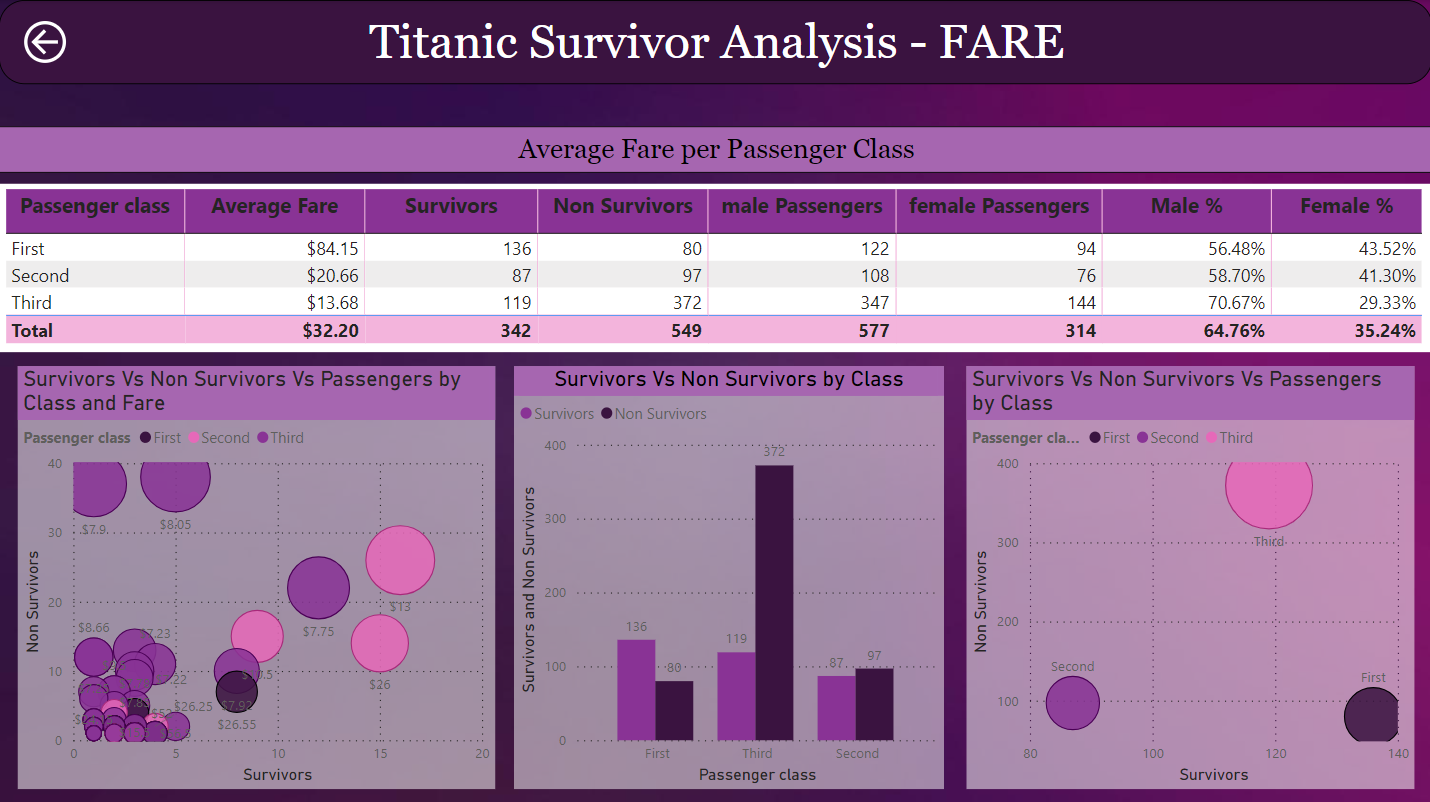

Layout of this report page (visuals, bound fields, positions):
{"tool":"powerbi","page":{"name":"Page 5","canvas":[1280,720],"ordinal":4},"visuals":[{"type":"textbox","box":[0,0,1280,75],"z":0},{"type":"actionButton","box":[16.2,12.5,48.8,50],"z":1},{"type":"tableEx","fields":{"Values":["train.Passenger class","train.Average Fare","train.Survivors","train.Non Survivors","train.male Passengers","train.female Passengers","train.Male %","train.Female %"]},"box":[0,163.8,1280,150],"z":2},{"type":"textbox","box":[0,112.5,1280,41.2],"z":3},{"type":"scatterChart","title":"Survivors Vs Non Survivors Vs Passengers by Class and Fare","fields":{"Y":["train.Non Survivors"],"X":["train.Survivors"],"Size":["train.Total Passengers"],"Series":["train.Passenger class"],"Category":["train.Fare"]},"box":[16.2,327.5,426.2,377.5],"z":4},{"type":"clusteredColumnChart","title":"Survivors Vs Non Survivors by Class","fields":{"Category":["train.Passenger class"],"Y":["train.Survivors","train.Non Survivors"]},"box":[460,327.5,383.8,377.5],"z":5},{"type":"scatterChart","title":"Survivors Vs Non Survivors Vs Passengers by Class","fields":{"Y":["train.Non Survivors"],"X":["train.Survivors"],"Series":["train.Passenger class"],"Size":["train.Total Passengers"]},"box":[863.8,327.5,400,377.5],"z":6}]}

Visuals, with their boxes in screenshot pixels (x1, y1, x2, y2), scaled from the page's 1280x720 canvas onto the 1430x802 screenshot:
textbox: l=0, t=0, r=1429, b=84
actionButton: l=18, t=14, r=73, b=70
tableEx - train.Passenger class x train.Average Fare: l=0, t=182, r=1429, b=350
textbox: l=0, t=125, r=1429, b=171
"Survivors Vs Non Survivors Vs Passengers by Class and Fare" scatterChart: l=18, t=365, r=494, b=785
"Survivors Vs Non Survivors by Class" clusteredColumnChart: l=514, t=365, r=943, b=785
"Survivors Vs Non Survivors Vs Passengers by Class" scatterChart: l=965, t=365, r=1412, b=785
